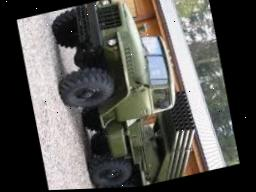rszo: (42, 0, 209, 190)
